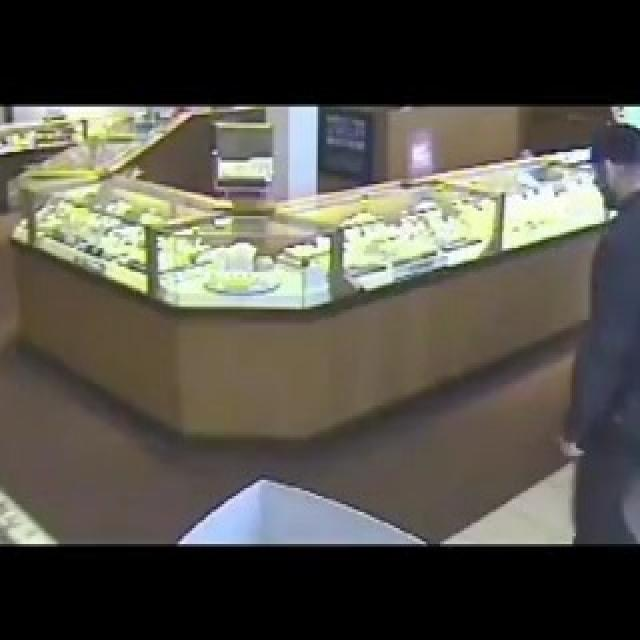Normal: (555, 108, 640, 542)
